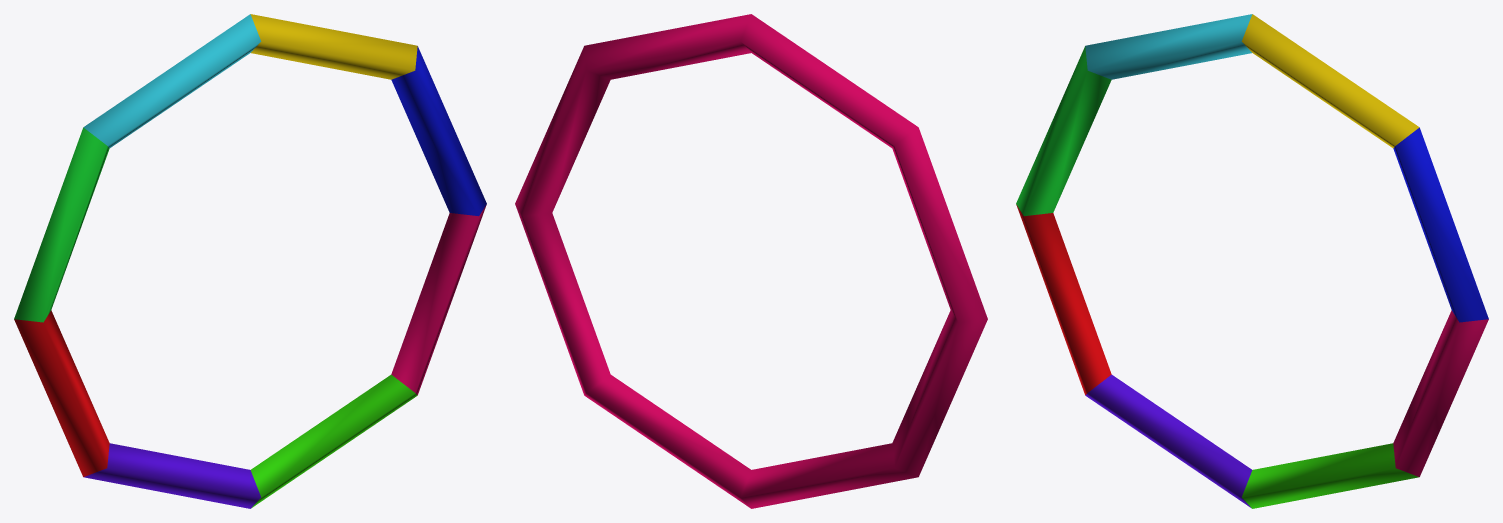
The model's file is BézierCircle.OBJ.
3 views of the same model, side by side, from view 1: azimuth 30°, elevation 25°; view 2: azimuth 150°, elevation 25°; view 3: azimuth 330°, elevation 25° (orthographic).
Parts seen in each view (by area): view 1: BézierCircle; view 2: BézierCircle; view 3: BézierCircle.
Boxes of the visible parts, box(x1,y1,x2,y2) form: BézierCircle: box(14, 14, 486, 508); BézierCircle: box(515, 14, 987, 508); BézierCircle: box(1016, 14, 1488, 508).
Bounding box in the file's own units: 0.00822 × 0.00822 × 0.00065.
